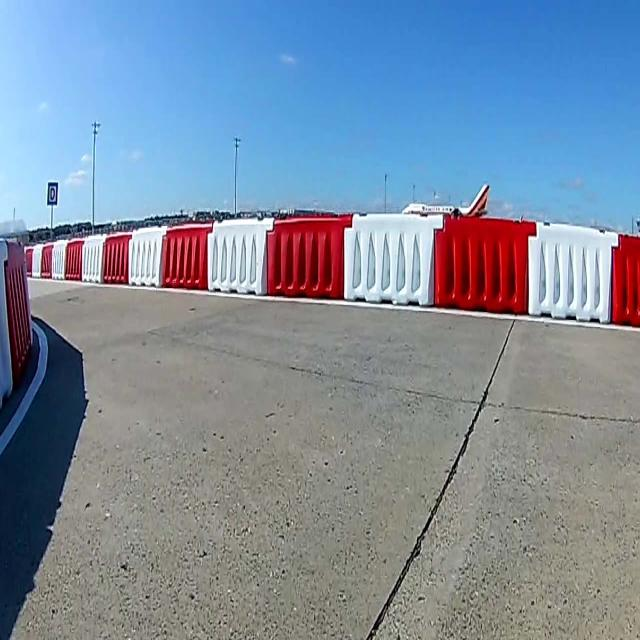durak: (47, 182, 58, 206)
